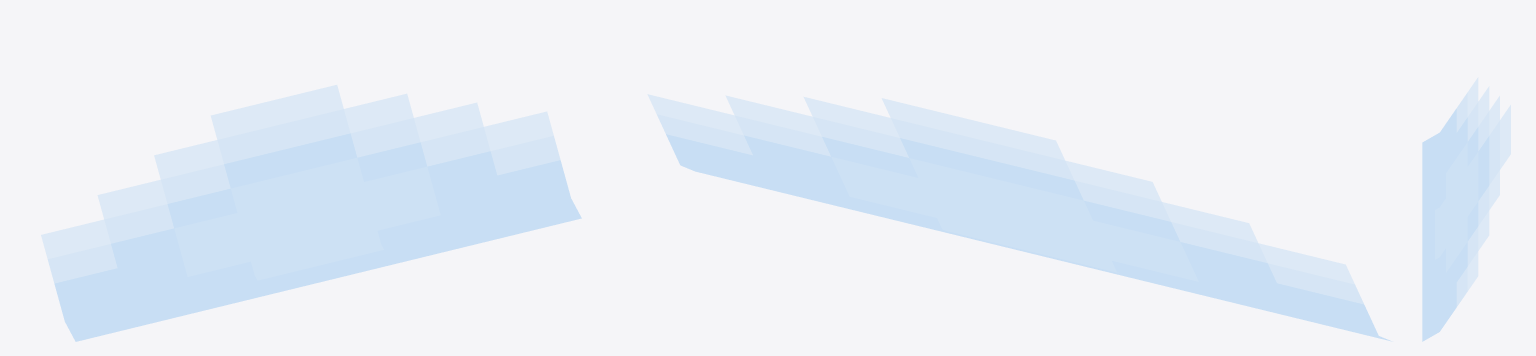
The picture shows the model from 3 angles, left to right: view 1: azimuth 30°, elevation 25°; view 2: azimuth 150°, elevation 25°; view 3: azimuth 270°, elevation 25°; orthographic projection. The views are drawn at different scales.
Bounding box in the file's own units: 1 × 0.3007 × 0.2109.
1 material, 1 textured.
